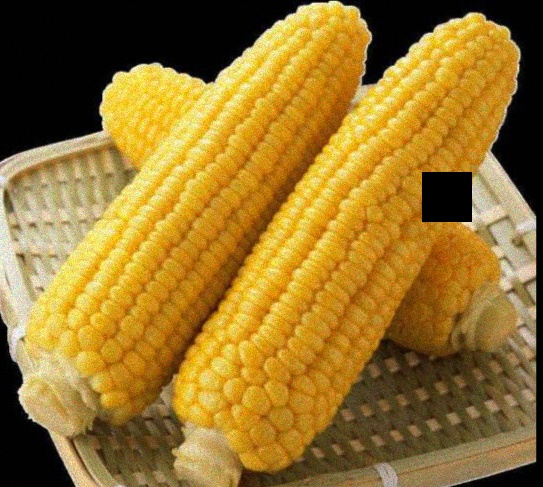corn: (17, 1, 370, 418), (207, 15, 506, 478), (97, 61, 504, 323)
